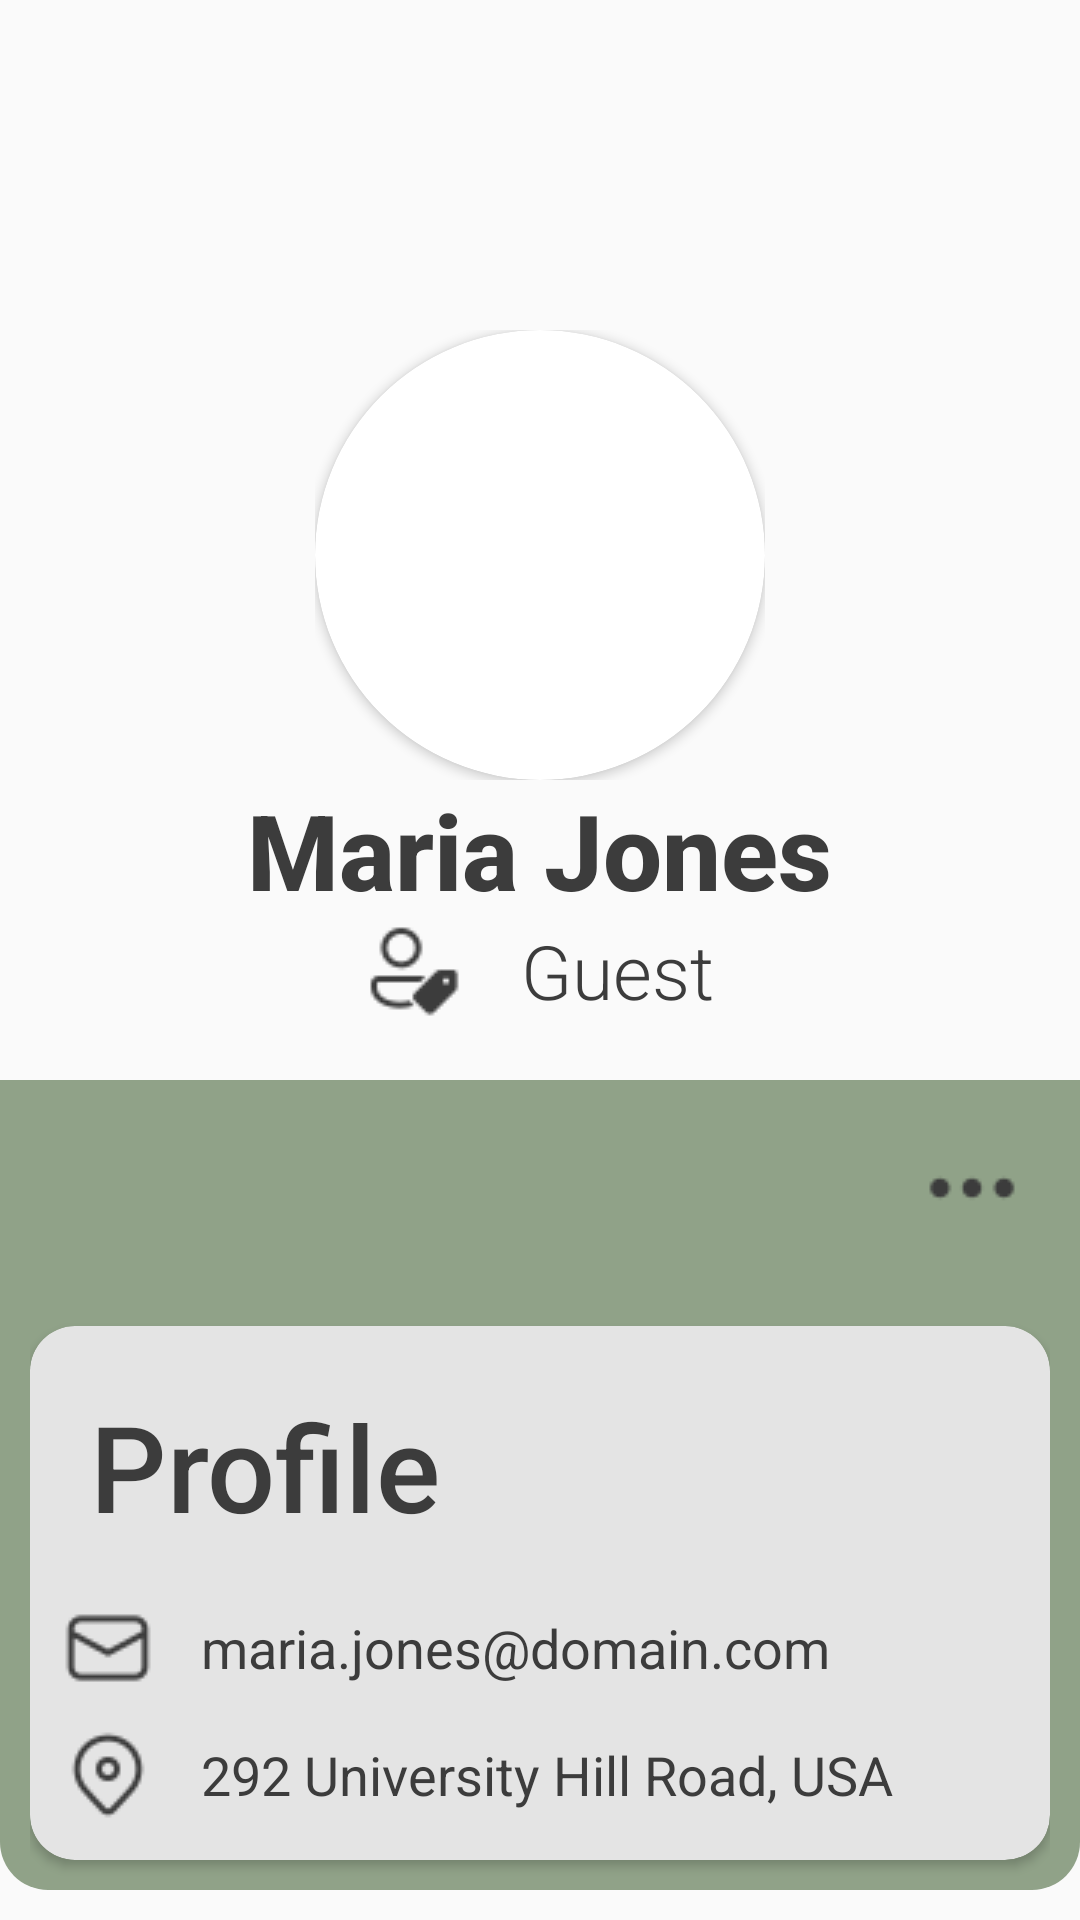

Named icons in this screenshot (1080 × 1920) and their centers, point (x, y):
more: point (972, 1188)
